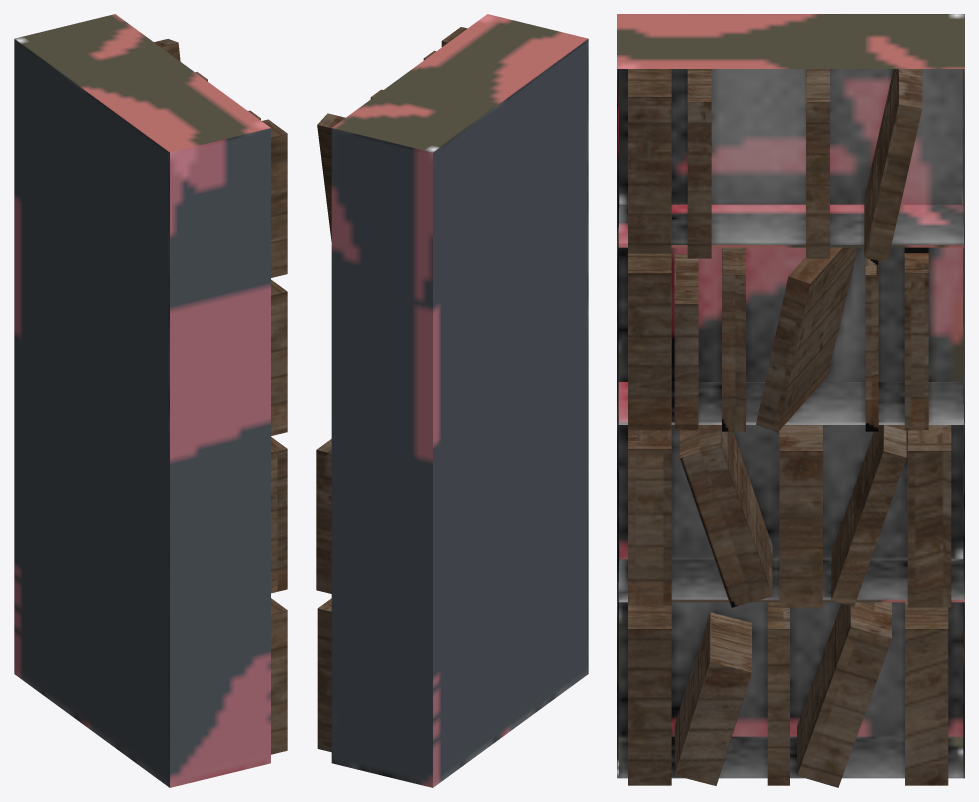
File: Bookshelf.glb
3 views of the same model, side by side, from view 1: azimuth 30°, elevation 25°; view 2: azimuth 150°, elevation 25°; view 3: azimuth 270°, elevation 25° (orthographic). The views are drawn at different scales.
Parts seen in each view (by area): view 1: Bookshelf01, Book.0001, Book.0016, Book.0005, Book.0010; view 2: Bookshelf01, Book.0014, Book.0019, Book.0004; view 3: Bookshelf01, Book.0018, Book.0011, Book.0007, Book.0017, Book.0001, Book.0014, Book.0013, Book.0016, Book.0019, Book.0005, Book.0010 (+9 smaller).
Boxes of the visible parts, left/top/right/bottom form: Bookshelf01: left=14, top=14, right=270, bottom=787; Book.0001: left=262, top=119, right=287, bottom=277; Book.0016: left=271, top=598, right=287, bottom=754; Book.0005: left=271, top=279, right=287, bottom=435; Book.0010: left=271, top=437, right=287, bottom=593; Bookshelf01: left=331, top=14, right=588, bottom=787; Book.0014: left=316, top=439, right=331, bottom=593; Book.0019: left=317, top=598, right=331, bottom=752; Book.0004: left=317, top=113, right=345, bottom=241; Bookshelf01: left=617, top=14, right=964, bottom=778; Book.0018: left=797, top=602, right=891, bottom=787; Book.0011: left=679, top=425, right=772, bottom=607; Book.0007: left=756, top=247, right=857, bottom=432; Book.0017: left=674, top=612, right=751, bottom=785; Book.0001: left=628, top=69, right=671, bottom=253; Book.0014: left=907, top=425, right=951, bottom=607; Book.0013: left=779, top=425, right=822, bottom=607; Book.0016: left=628, top=605, right=671, bottom=785; Book.0019: left=905, top=602, right=948, bottom=785; Book.0005: left=628, top=253, right=671, bottom=430; Book.0010: left=628, top=430, right=671, bottom=605.
Size of the model in its own units: 0.4125 by 1.8 by 0.8.
Materials: 21 (21 with a texture image).
